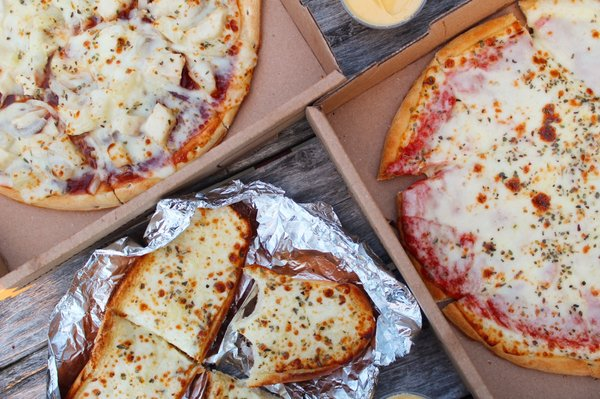curry: (1, 0, 600, 392)
sandwich: (378, 4, 600, 379), (54, 198, 379, 392), (0, 1, 261, 212)
